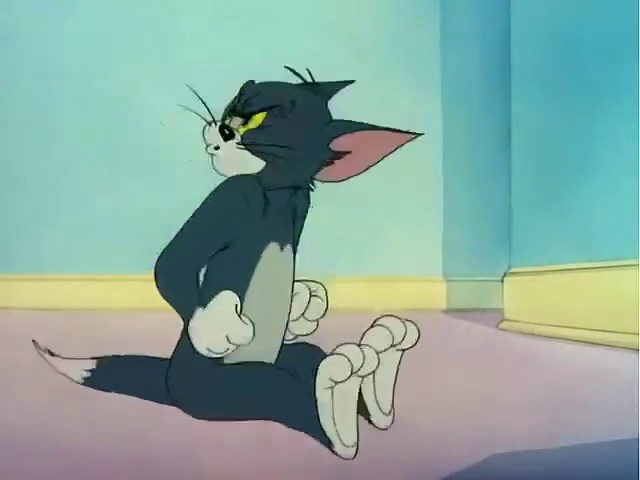tom: (38, 39, 433, 463)
